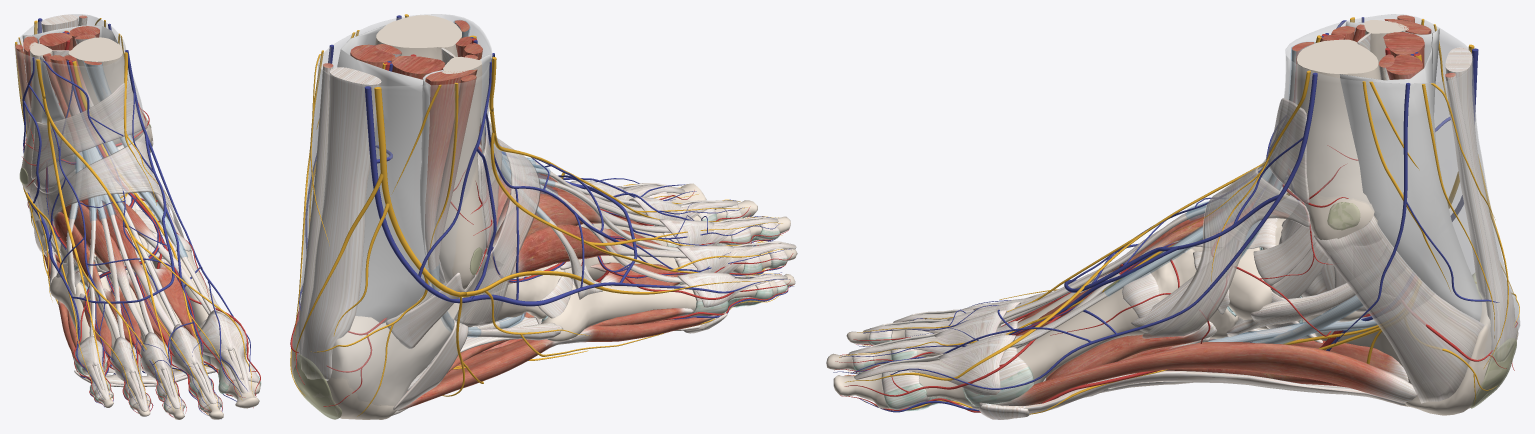
Rendered from open3dmodel-zone-ankle.glb.
The picture shows the model from 3 angles, left to right: view 1: azimuth 30°, elevation 25°; view 2: azimuth 150°, elevation 25°; view 3: azimuth 270°, elevation 25°; orthographic projection. The views are drawn at different scales.
Parts seen in each view (by area): view 1: Crural fascia.r, Inferior extensor retinaculum.r, Extensor digitorum brevis.r, Superior extensor retinaculum of ankle.r, Extensor digitorum longus tendons.r, Tibia.r, Extensor apparatus of 1st toe.r, Fibula.r, Extensor apparatus of 2nd toe.r, Dorsal metatarsal arteries.r, Extensor apparatus of 3rd toe.r, Dorsal venous network of foot.r (+58 smaller); view 2: Crural fascia.r, Calcaneal tendon.r, Transverse intermuscular septum of leg.r, Calcaneus.r, Extensor digitorum brevis.r, Fibula.r, Inferior extensor retinaculum.r, Abductor digiti minimi of foot.r, Fibularis brevis muscle.r, Fifth metatarsal bone.r, Extensor digitorum longus tendons.r, Plantaris muscle.r (+44 smaller); view 3: Crural fascia.r, Transverse intermuscular septum of leg.r, Flexor retinaculum of ankle.r, Tibia.r, Abductor hallucis.r, Inferior extensor retinaculum.r, Calcaneus.r, Calcaneal tendon.r, First metatarsal bone.r, Extensor apparatus of 1st toe.r, Plantar aponeurosis.r, Tibialis anterior muscle.r (+43 smaller).
Part boxes in pixels (x1,y1,x2,y2): Crural fascia.r: [14, 14, 145, 228]; Inferior extensor retinaculum.r: [29, 129, 184, 252]; Extensor digitorum brevis.r: [53, 198, 200, 388]; Superior extensor retinaculum of ankle.r: [31, 80, 147, 179]; Extensor digitorum longus tendons.r: [88, 194, 209, 399]; Tibia.r: [68, 37, 152, 154]; Extensor apparatus of 1st toe.r: [196, 310, 250, 393]; Fibula.r: [21, 42, 56, 195]; Extensor apparatus of 2nd toe.r: [169, 324, 216, 404]; Dorsal metatarsal arteries.r: [73, 246, 260, 416]; Extensor apparatus of 3rd toe.r: [140, 332, 180, 408]; Dorsal venous network of foot.r: [48, 86, 172, 301]; Crural fascia.r: [296, 14, 511, 412]; Calcaneal tendon.r: [301, 67, 381, 380]; Transverse intermuscular septum of leg.r: [315, 25, 430, 323]; Calcaneus.r: [291, 279, 495, 419]; Extensor digitorum brevis.r: [482, 173, 760, 294]; Fibula.r: [439, 56, 485, 289]; Inferior extensor retinaculum.r: [454, 138, 540, 326]; Abductor digiti minimi of foot.r: [397, 315, 718, 410]; Fibularis brevis muscle.r: [425, 69, 563, 340]; Fifth metatarsal bone.r: [541, 279, 696, 341]; Extensor digitorum longus tendons.r: [502, 154, 778, 282]; Plantaris muscle.r: [298, 63, 333, 359]; Crural fascia.r: [1257, 14, 1520, 363]; Transverse intermuscular septum of leg.r: [1339, 33, 1481, 321]; Flexor retinaculum of ankle.r: [1314, 216, 1484, 403]; Tibia.r: [1297, 39, 1380, 251]; Abductor hallucis.r: [970, 342, 1417, 409]; Inferior extensor retinaculum.r: [1142, 167, 1310, 338]; Calcaneus.r: [1303, 294, 1518, 415]; Calcaneal tendon.r: [1445, 47, 1516, 362]; First metatarsal bone.r: [1016, 288, 1147, 384]; Extensor apparatus of 1st toe.r: [854, 334, 1015, 395]; Plantar aponeurosis.r: [979, 370, 1408, 413]; Tibialis anterior muscle.r: [1130, 42, 1314, 335].
Size of the model in its own units: 0.1016 by 0.1336 by 0.2313.
46 materials, 9 textured.
